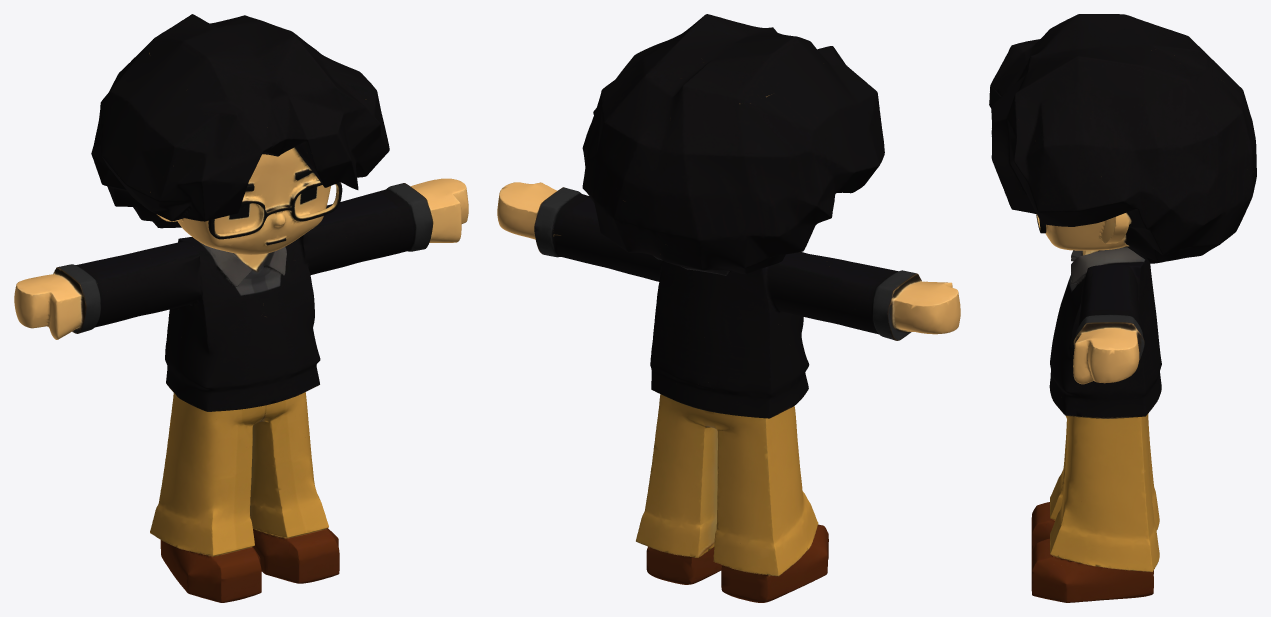
Rendered from pessonagem.glb.
3 views of the same model, side by side, from view 1: azimuth 30°, elevation 25°; view 2: azimuth 150°, elevation 25°; view 3: azimuth 270°, elevation 25° (orthographic).
Bounding box in the file's own units: 1.66 × 1.9 × 0.8628.
1 material, 1 textured.
